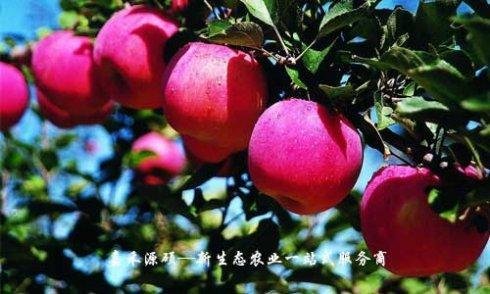apple: (358, 159, 484, 275), (244, 98, 362, 217), (159, 42, 271, 166)
